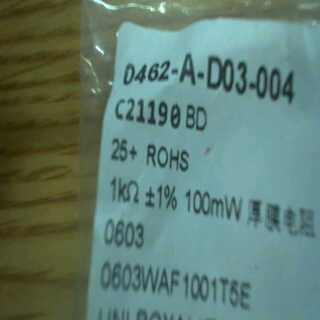1kR: (107, 175, 143, 208)
